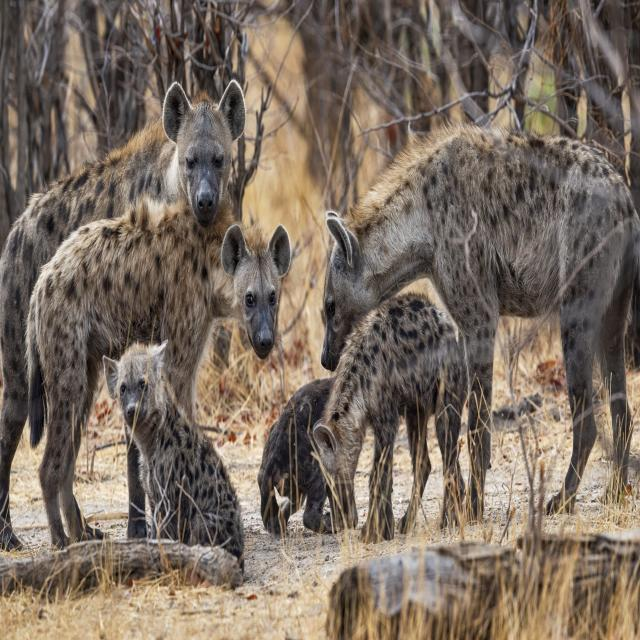Hyena: (319, 129, 640, 522), (0, 72, 251, 521), (31, 218, 291, 562), (315, 290, 469, 538), (105, 350, 249, 580)
